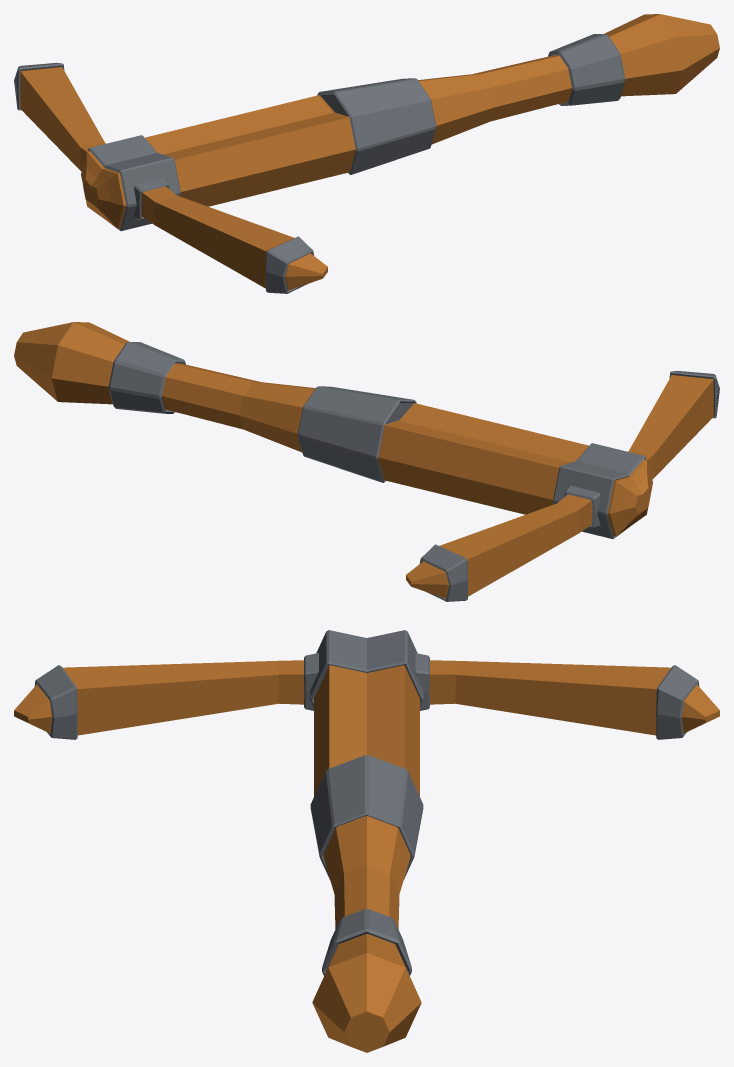
The model's file is crossbow.glb.
3 views of the same model, one above another, from view 1: azimuth 30°, elevation 25°; view 2: azimuth 150°, elevation 25°; view 3: azimuth 270°, elevation 25° (orthographic). The views are drawn at different scales.
Visible parts, largest first — view 1: frame, string_frame, string_band, handle_band, arrow_holder, string_left, arrow_shaft_bands, string_right; view 2: frame, string_frame, string_band, handle_band, arrow_holder, string_right, arrow_shaft_bands, string_left; view 3: string_frame, frame, string_band, arrow_holder, handle_band, string_right, string_left, arrow_shaft_bands.
Part boxes in pixels (x1,y1,x2,y2): frame: [81, 14, 719, 228]; string_frame: [20, 67, 327, 290]; string_band: [317, 78, 436, 174]; handle_band: [548, 34, 625, 105]; arrow_holder: [88, 135, 180, 231]; string_left: [266, 236, 314, 293]; arrow_shaft_bands: [133, 177, 169, 220]; string_right: [14, 62, 64, 110]; frame: [14, 322, 652, 536]; string_frame: [406, 375, 713, 598]; string_band: [297, 386, 416, 482]; handle_band: [108, 342, 185, 413]; arrow_holder: [553, 443, 645, 539]; string_right: [419, 544, 467, 601]; arrow_shaft_bands: [564, 485, 600, 528]; string_left: [669, 370, 719, 418]; string_frame: [14, 660, 719, 735]; frame: [312, 665, 421, 1052]; string_band: [310, 755, 423, 879]; arrow_holder: [310, 630, 423, 707]; handle_band: [322, 909, 411, 975]; string_right: [656, 665, 699, 739]; string_left: [34, 665, 77, 739]; arrow_shaft_bands: [304, 653, 429, 710].
Size of the model in its own units: 3.34 by 0.42 by 2.67.
Materials: 1 (1 with a texture image).
